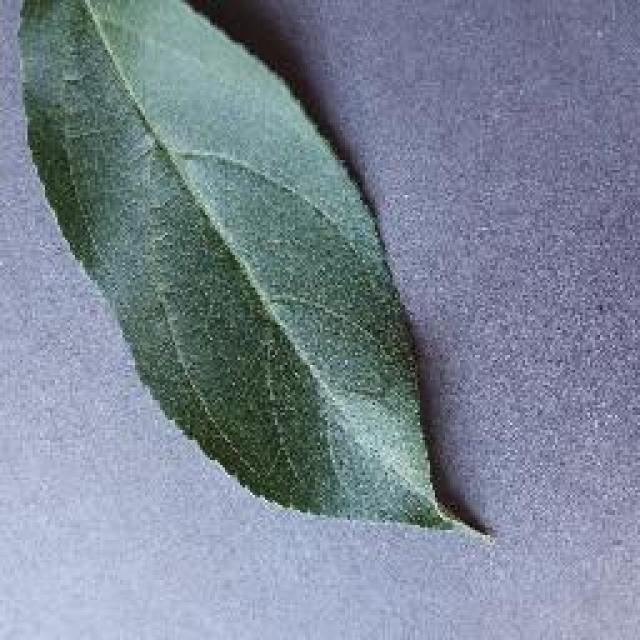apple healthy: (12, 0, 490, 540)
